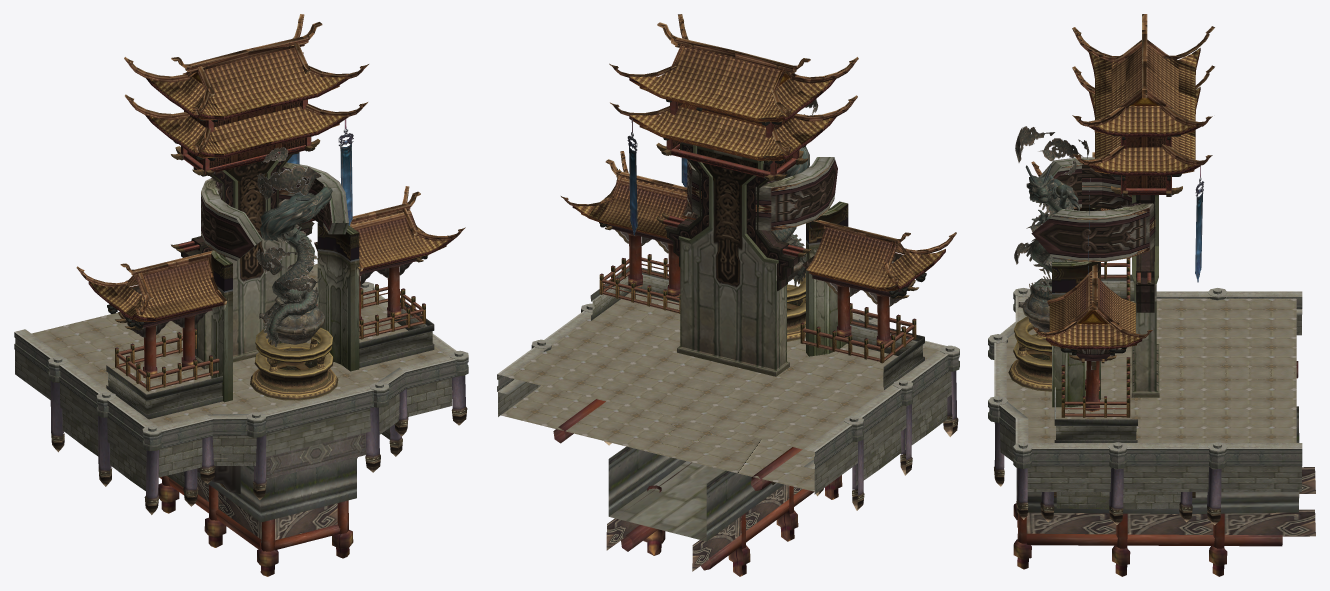
File: ZC_001chenxingge_x02.FBX
The picture shows the model from 3 angles, left to right: view 1: azimuth 30°, elevation 25°; view 2: azimuth 150°, elevation 25°; view 3: azimuth 270°, elevation 25°; orthographic projection. The views are drawn at different scales.
Visible parts, largest first — view 1: ZC_001chenxingge_x02; view 2: ZC_001chenxingge_x02; view 3: ZC_001chenxingge_x02.
Boxes of the visible parts, x1,y1,x2,y2 form: ZC_001chenxingge_x02: (14, 14, 468, 576); ZC_001chenxingge_x02: (497, 14, 959, 576); ZC_001chenxingge_x02: (988, 14, 1315, 576).
Bounding box in the file's own units: 31.87 × 44.73 × 26.35.
